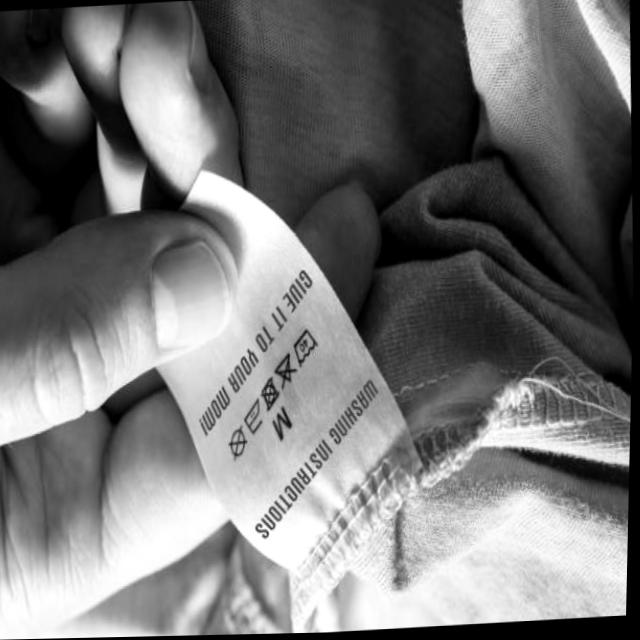40C: (293, 328, 322, 367)
DN_bleach: (275, 354, 296, 388)
DN_dry_clean: (227, 427, 249, 461)
DN_tumble_dry: (261, 379, 282, 411)
iron_medium: (244, 399, 265, 434)
